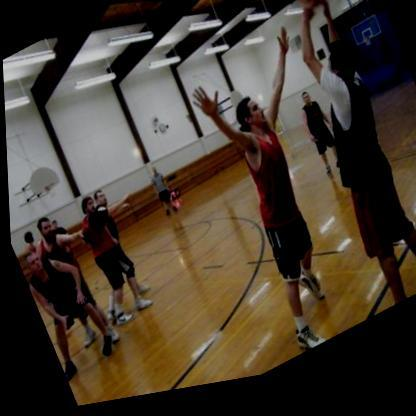basketball: (287, 0, 331, 23)
